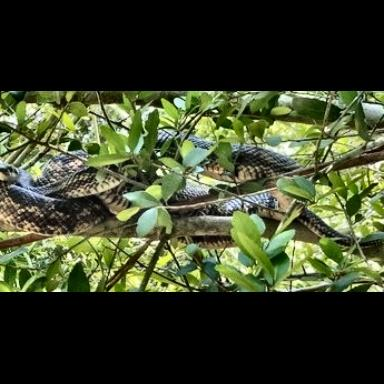snake: (0, 154, 133, 235), (166, 145, 302, 222), (297, 208, 384, 268), (156, 129, 216, 162)
